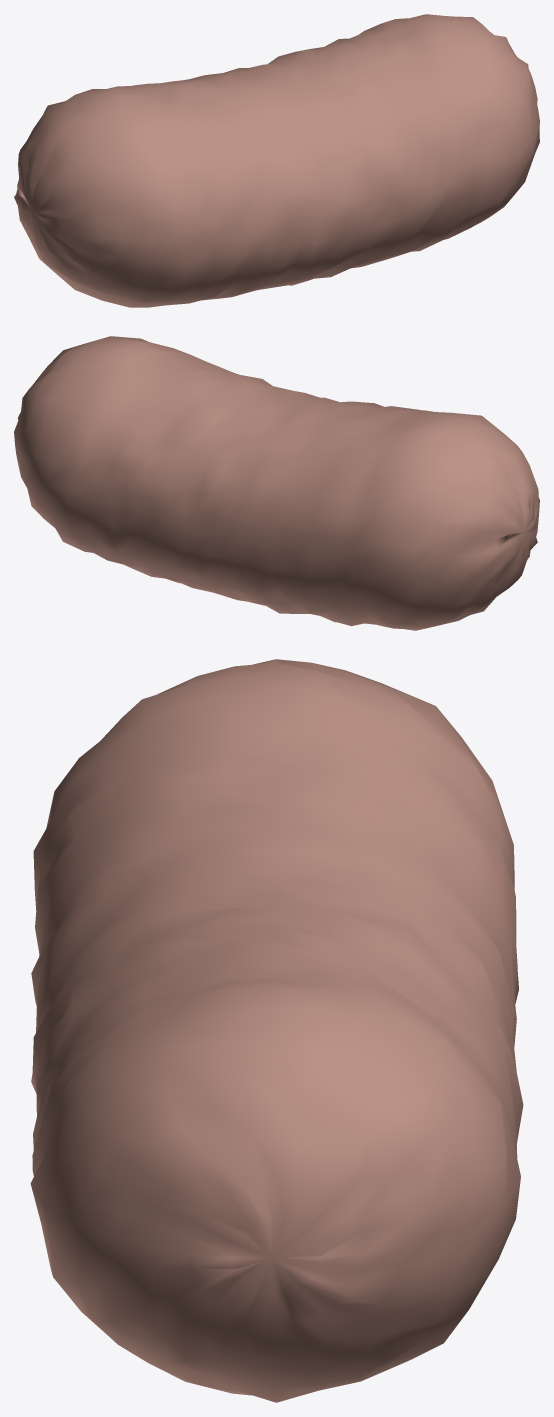
File: ecoli.gltf
3 renders of one model, top to bottom at view 1: azimuth 30°, elevation 25°; view 2: azimuth 150°, elevation 25°; view 3: azimuth 270°, elevation 25°, orthographic. The views are drawn at different scales.
Visible parts, largest first — view 1: Sphere; view 2: Sphere; view 3: Sphere.
Part boxes in pixels (<box>): Sphere: <box>14,14,539,307</box>; Sphere: <box>14,336,539,630</box>; Sphere: <box>30,659,523,1402</box>.
Size of the model in its own units: 4.72 by 1.93 by 2.04.
